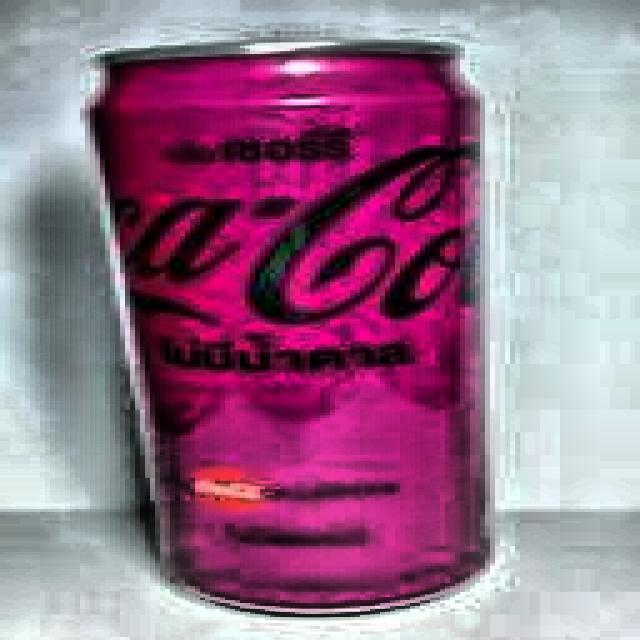Cans: (70, 28, 512, 636)
